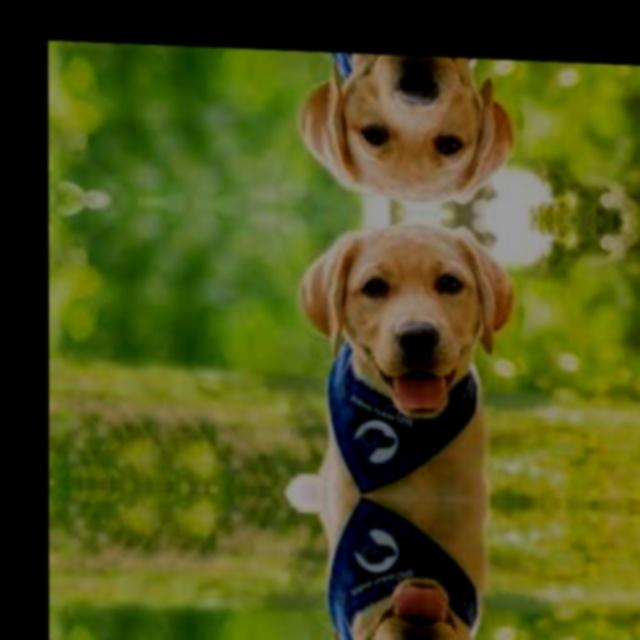dog: (294, 216, 514, 502), (294, 51, 514, 207), (294, 492, 514, 640)
